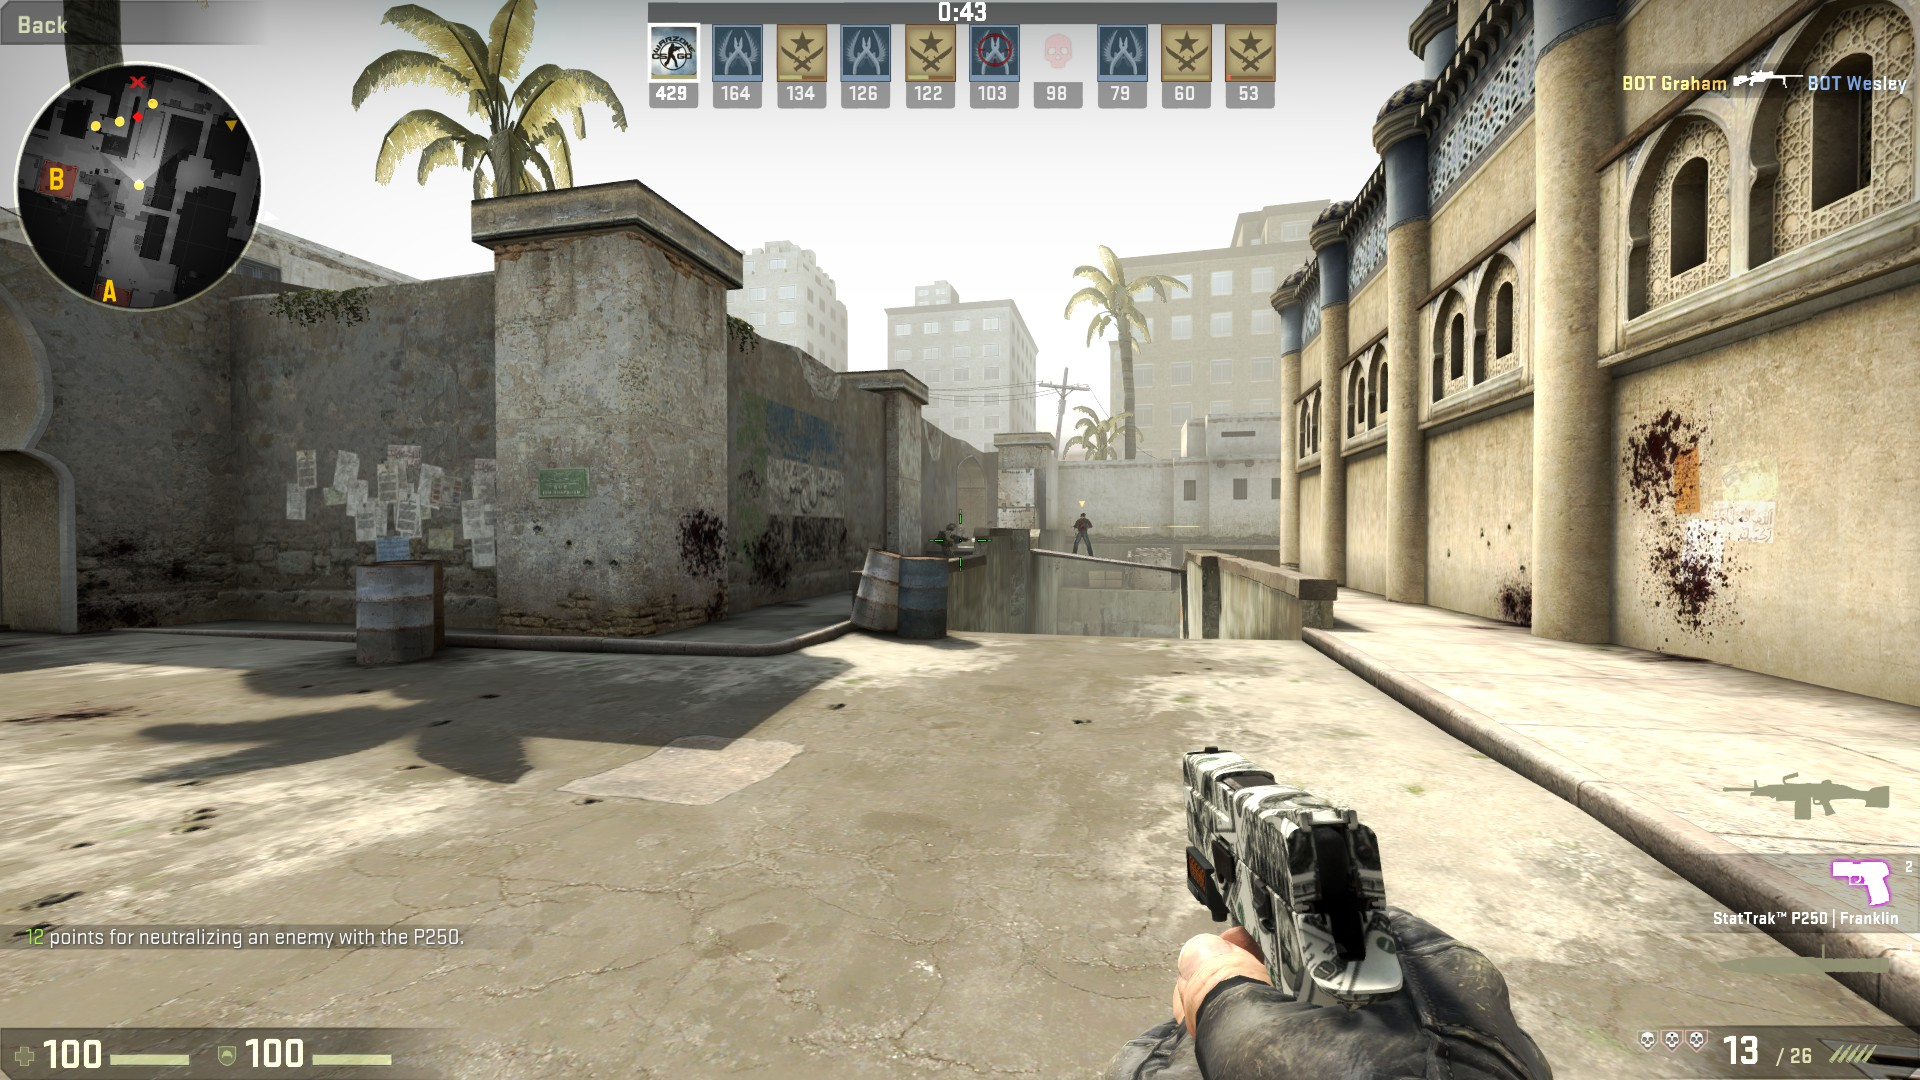c: (940, 522, 959, 560)
ch: (945, 524, 956, 533)
t: (1072, 512, 1093, 554)
th: (1079, 513, 1087, 520)
